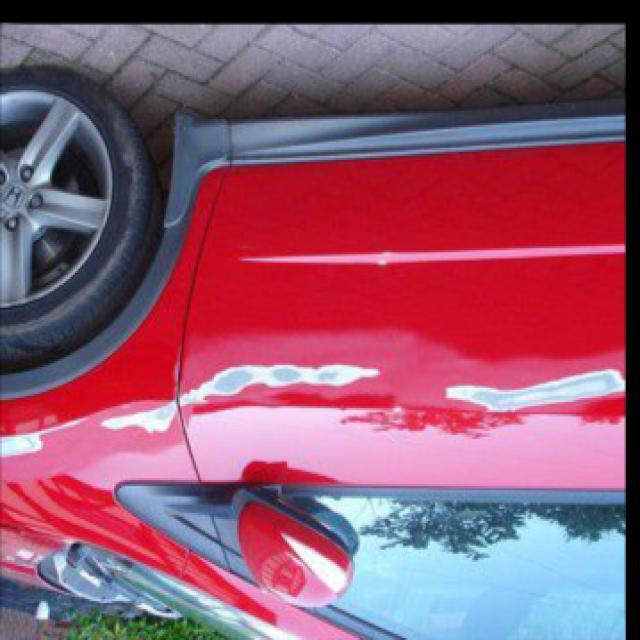scratch: (96, 356, 382, 444), (437, 366, 620, 426), (0, 404, 86, 468)
